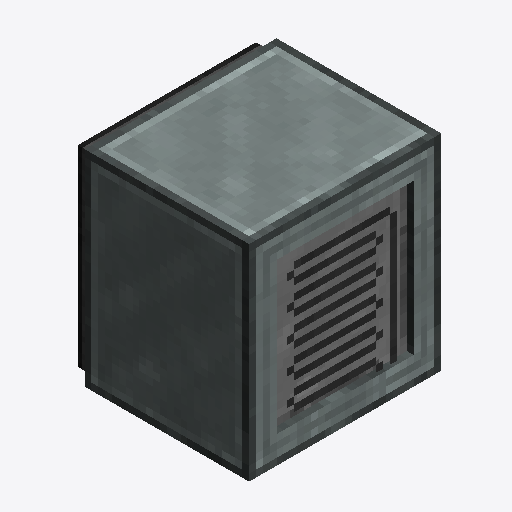
Isometric view (azimuth 45°, elevation 35.3°) of a Minecraft model made of 17 cuboids, textured from the same repository.
Parts seen in each view (by area): Static_Right, Static_Top, Static_Back, Static_Bottom, Static_Left, Static_Heatsink, Static_SealRight, Static_SealTop.
Boxes of the visible parts, box(x1,y1,x2,y2) form: Static_Right: box(85, 134, 276, 449); Static_Top: box(112, 54, 413, 258); Static_Back: box(277, 185, 406, 425); Static_Bottom: box(85, 339, 440, 480); Static_Left: box(250, 38, 440, 354); Static_Heatsink: box(287, 207, 396, 411); Static_SealRight: box(78, 161, 84, 354); Static_SealTop: box(92, 50, 247, 140).
Size of the model in its own units: 14 by 15 by 13.